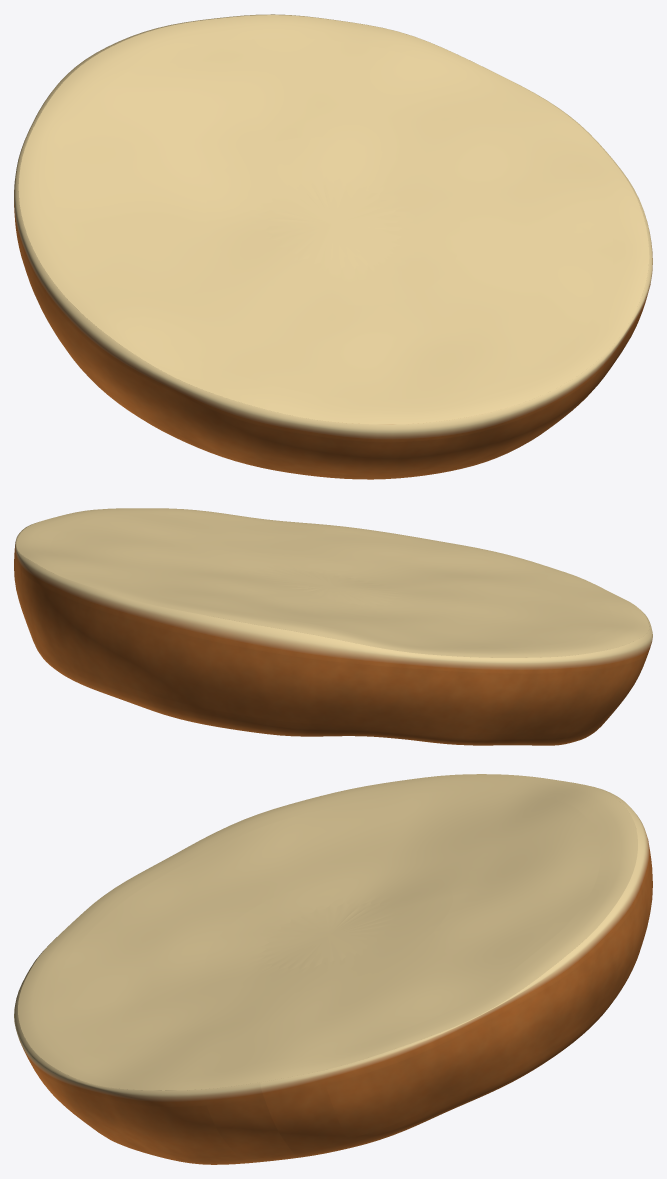
File: Hamburger Ekmek Alt.fbx
3 renders of one model, top to bottom at view 1: azimuth 30°, elevation 25°; view 2: azimuth 150°, elevation 25°; view 3: azimuth 270°, elevation 25°, orthographic.
Parts seen in each view (by area): view 1: Cube.009; view 2: Cube.009; view 3: Cube.009.
Boxes of the visible parts, x1,y1,x2,y2 form: Cube.009: (14, 14, 652, 479); Cube.009: (14, 508, 652, 745); Cube.009: (14, 774, 652, 1164).
Bounding box in the file's own units: 33.65 × 14.29 × 32.95.
1 material, 1 textured.
